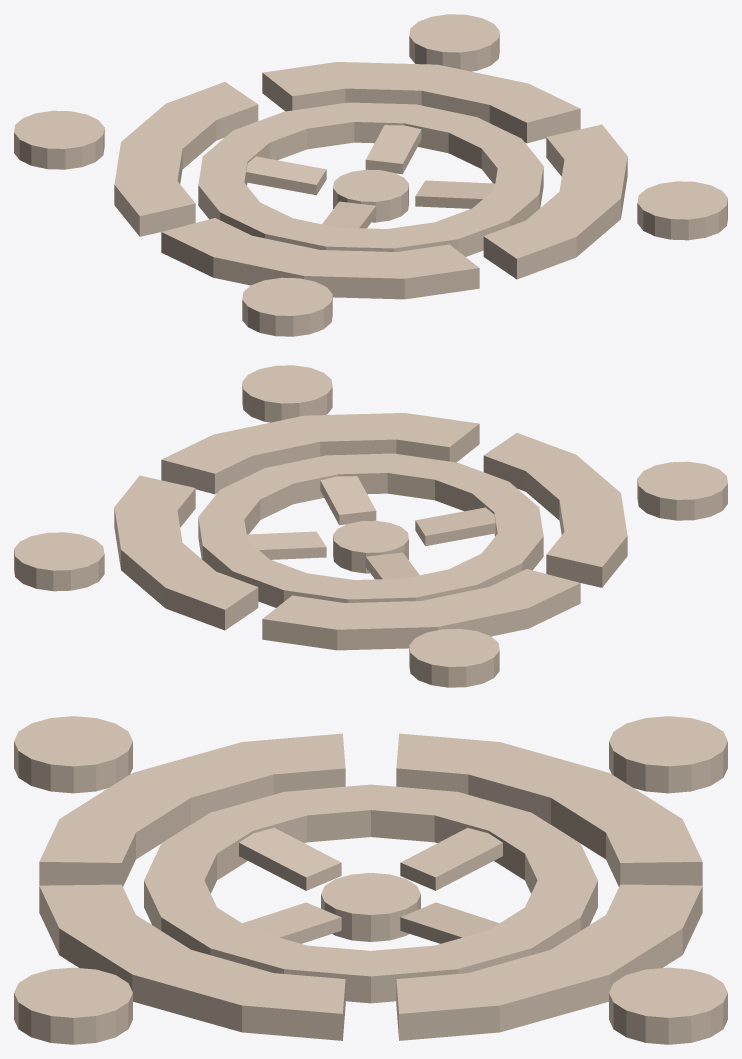
The model's file is islands_set_low_fi.obj.
3 renders of one model, top to bottom at view 1: azimuth 30°, elevation 25°; view 2: azimuth 150°, elevation 25°; view 3: azimuth 270°, elevation 25°, orthographic. The views are drawn at different scales.
Visible parts, largest first — view 1: ring.002, ring.001, subisland.003, subisland.002, subisland.004, subisland.001, main island, bridge.002, bridge.001, bridge.004, bridge.003; view 2: ring.002, ring.001, subisland.002, subisland.001, subisland.003, subisland.004, main island, bridge.003, bridge.004, bridge.001, bridge.002; view 3: ring.002, ring.001, subisland.001, subisland.004, subisland.002, subisland.003, main island, bridge.002, bridge.003, bridge.001, bridge.004.
Part boxes in pixels (box(x1,y1,x2,y2)): ring.002: box(114, 62, 627, 299); ring.001: box(198, 102, 543, 256); subisland.003: box(242, 277, 332, 336); subisland.002: box(14, 110, 104, 169); subisland.004: box(637, 181, 727, 240); subisland.001: box(409, 14, 499, 71); main island: box(333, 169, 408, 222); bridge.002: box(246, 156, 326, 195); bridge.001: box(365, 125, 421, 174); bridge.004: box(415, 180, 495, 208); bridge.003: box(322, 201, 376, 228); ring.002: box(114, 413, 627, 650); ring.001: box(198, 453, 543, 607); subisland.002: box(409, 628, 499, 687); subisland.001: box(14, 532, 104, 591); subisland.003: box(637, 461, 727, 520); subisland.004: box(242, 365, 332, 422); main island: box(333, 520, 408, 573); bridge.003: box(415, 507, 495, 546); bridge.004: box(320, 476, 376, 525); bridge.001: box(246, 531, 326, 559); bridge.002: box(365, 552, 419, 579); ring.002: box(39, 733, 702, 1040); ring.001: box(144, 784, 597, 1003); subisland.001: box(609, 967, 727, 1044); subisland.004: box(14, 967, 132, 1044); subisland.002: box(609, 716, 727, 793); subisland.003: box(14, 716, 132, 793); main island: box(321, 873, 420, 941); bridge.002: box(400, 827, 502, 890); bridge.003: box(239, 827, 341, 890); bridge.001: box(400, 902, 499, 943); bridge.004: box(242, 902, 341, 943).
Bounding box in the file's own units: 48 × 4 × 48.
